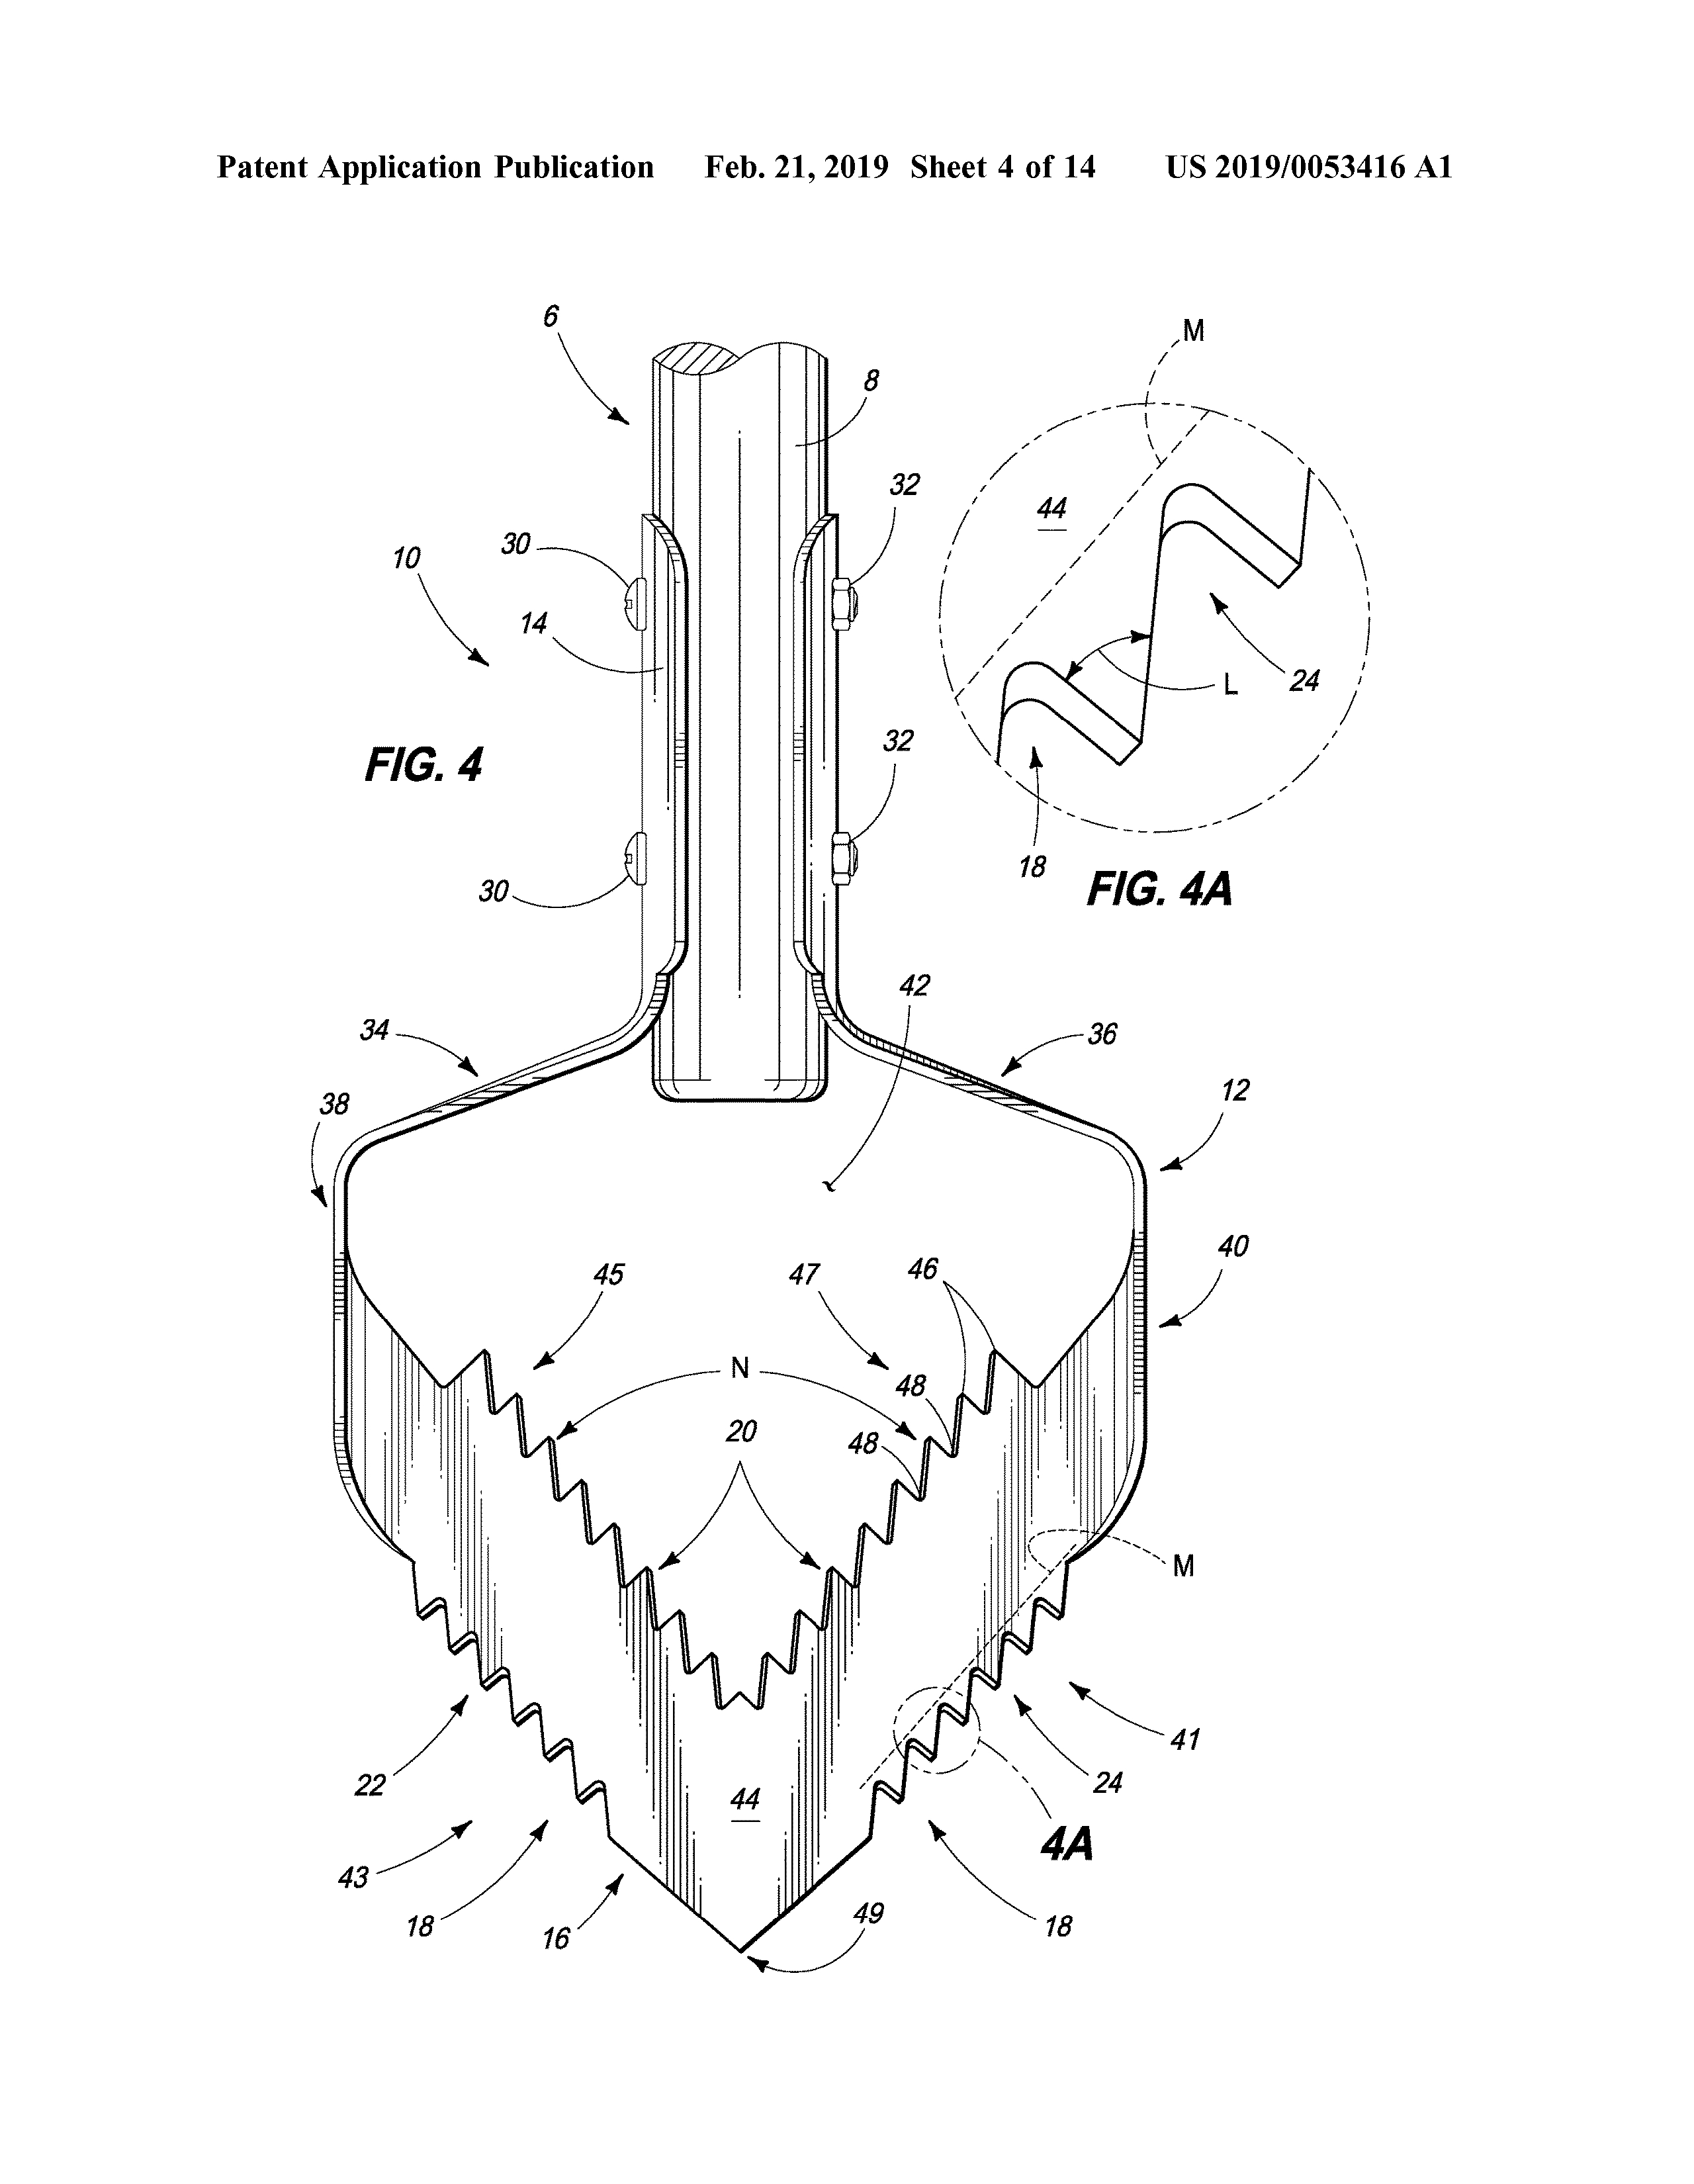10: (383, 532, 434, 583)
12: (1214, 1065, 1265, 1117)
14: (510, 597, 562, 649)
16: (533, 1913, 585, 1964)
18: (1038, 1897, 1090, 1948), (397, 1902, 448, 1954)
20: (719, 1402, 771, 1454)
22: (346, 1760, 397, 1813)
24: (1084, 1759, 1136, 1810), (1279, 654, 1331, 706)
30: (471, 867, 523, 918), (493, 518, 544, 569)
32: (875, 720, 927, 771), (879, 463, 930, 514)
34: (353, 1007, 404, 1058)
36: (1081, 1010, 1132, 1062)
38: (312, 1076, 363, 1127)
40: (1207, 1223, 1258, 1275)
41: (1161, 1714, 1212, 1766)
42: (886, 961, 939, 1012)
43: (330, 1849, 381, 1900)
44: (1030, 487, 1083, 539), (719, 1773, 771, 1824)
45: (585, 1244, 638, 1296)
46: (900, 1246, 952, 1298)
47: (785, 1252, 836, 1303)
48: (842, 1415, 895, 1466), (890, 1358, 941, 1411)
49: (847, 1888, 898, 1939)
4A: (1037, 1810, 1106, 1879)
6: (528, 287, 579, 340)
8: (852, 353, 904, 404)
L: (1207, 659, 1258, 711)
M: (1154, 1540, 1205, 1594), (1169, 310, 1221, 362)
N: (714, 1347, 765, 1399)
